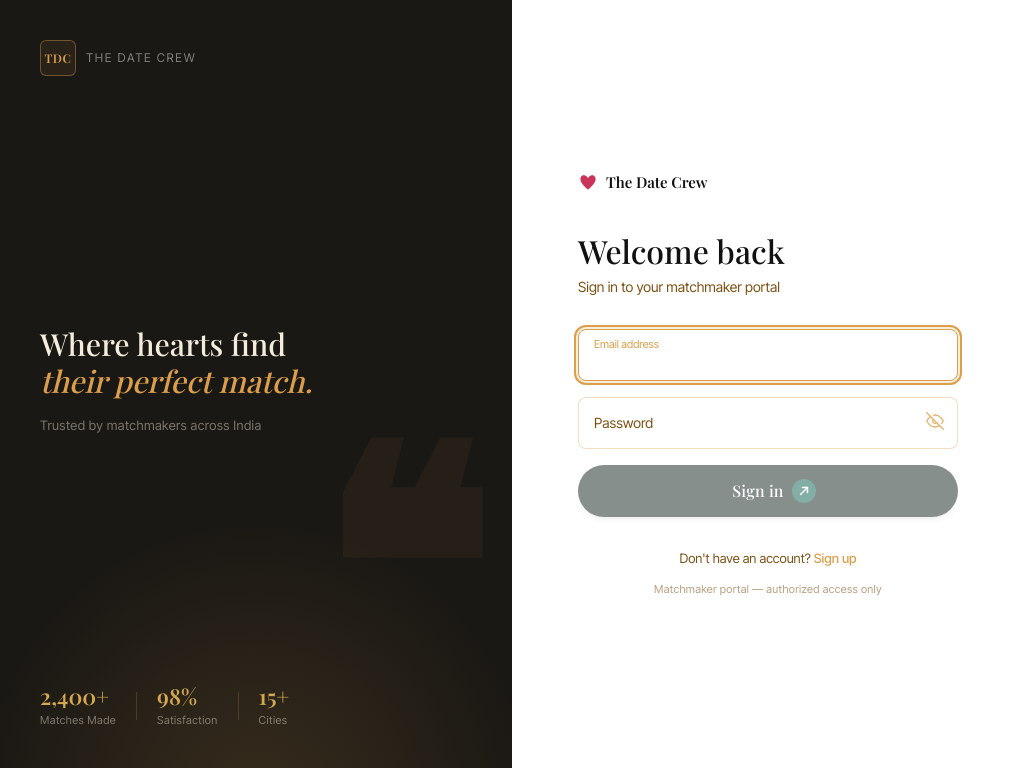
Test: LoginPage — submission › shows human-readable error on wrong password
The image size is (1024, 768).
In the field labelled "Email address": (768, 355) x1=578 y1=329 x2=958 y2=381, type "test@tdc.com"
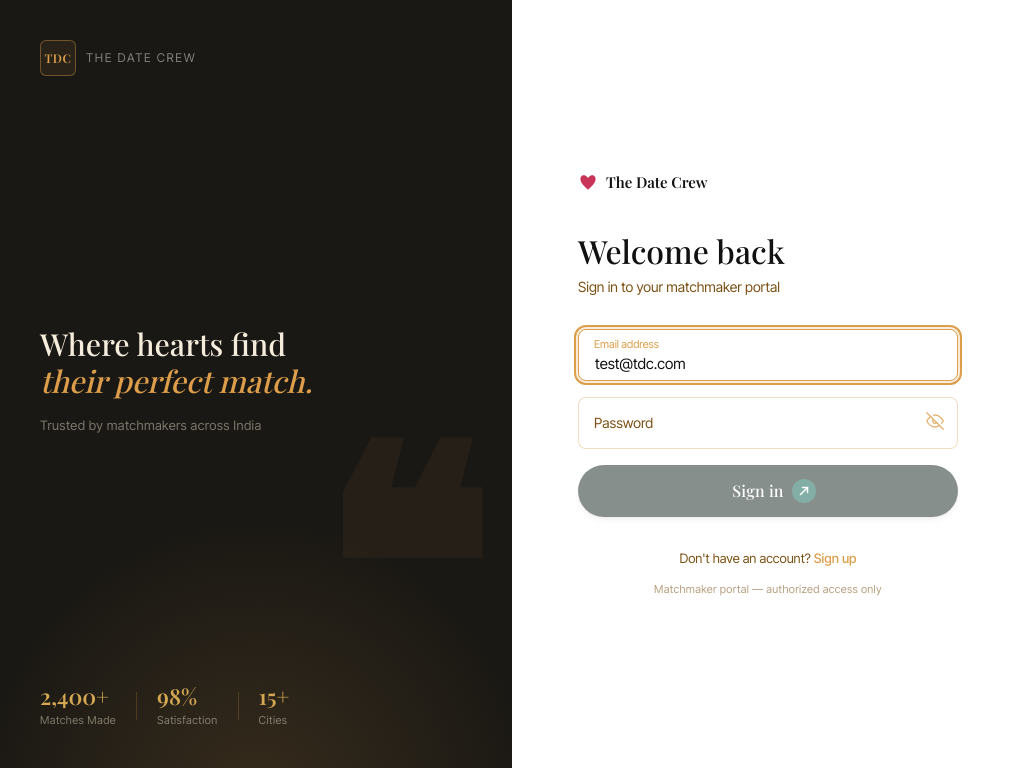
In the password field labelled "Password": (768, 423) x1=578 y1=397 x2=958 y2=449, type "wrongpass"
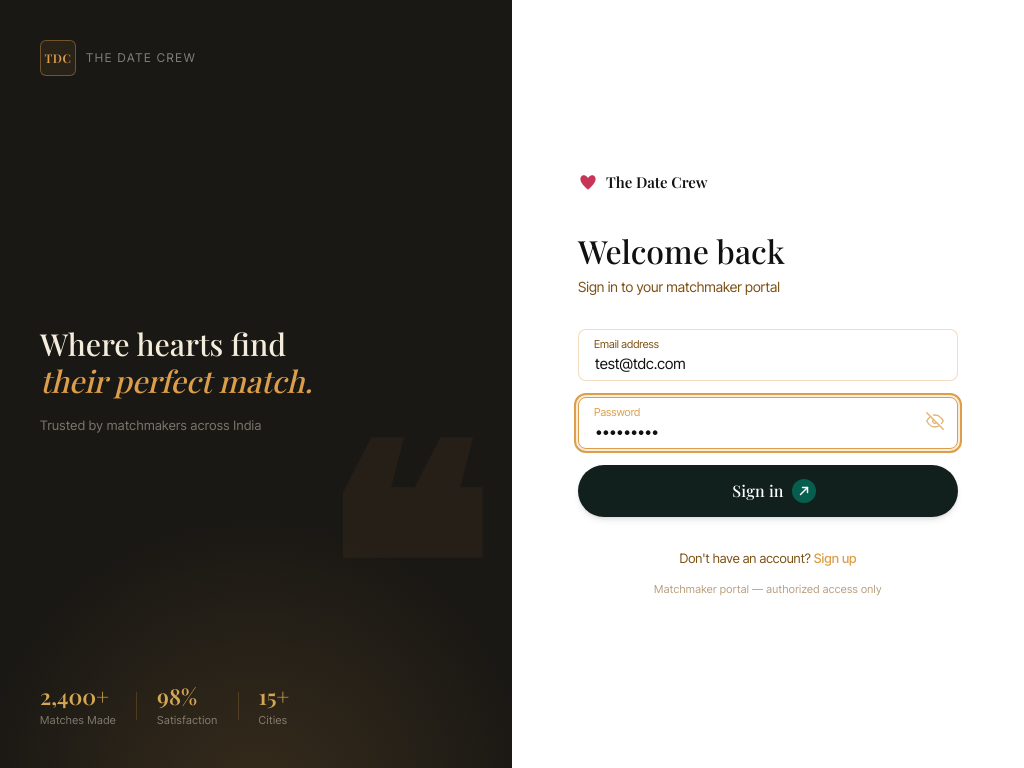
Click the button "Sign in": (768, 491) x1=578 y1=465 x2=958 y2=517
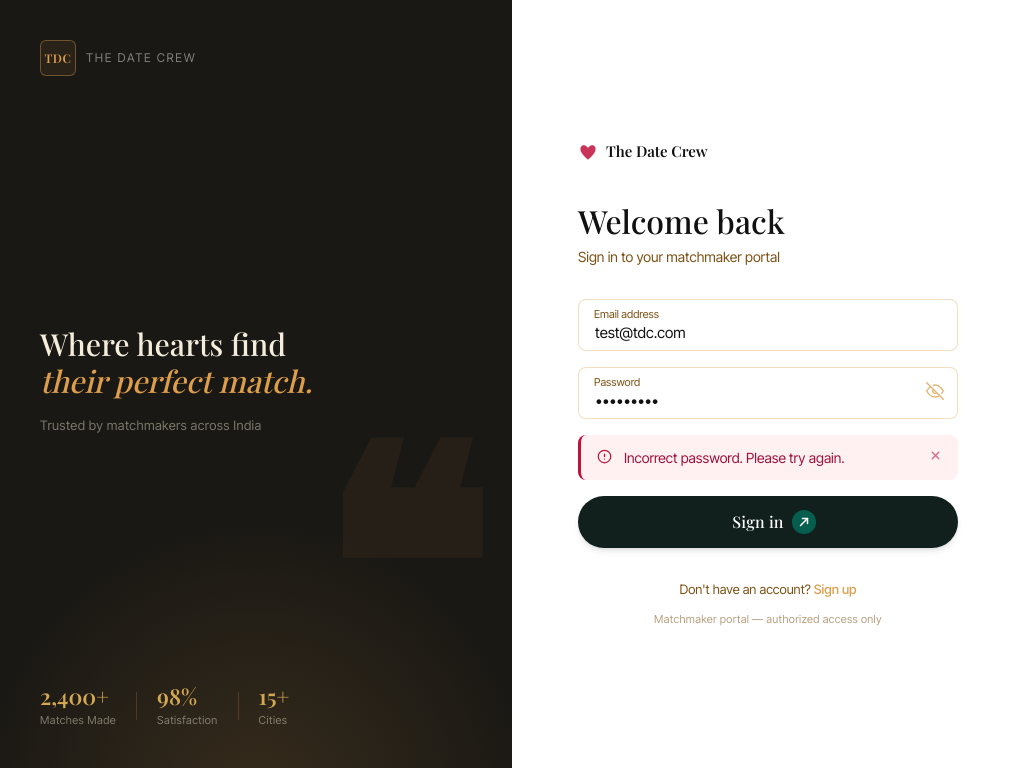
Expected: the message shows "Incorrect password", x1=624 y1=449 x2=845 y2=466
